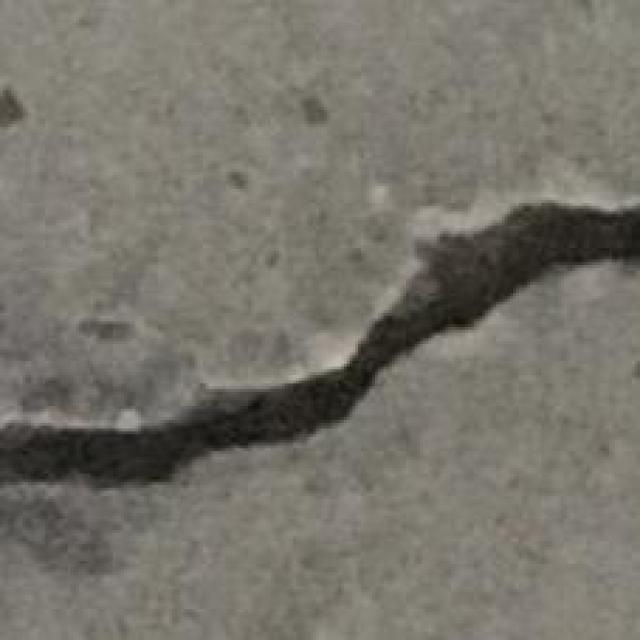Crack: (3, 197, 640, 482)
